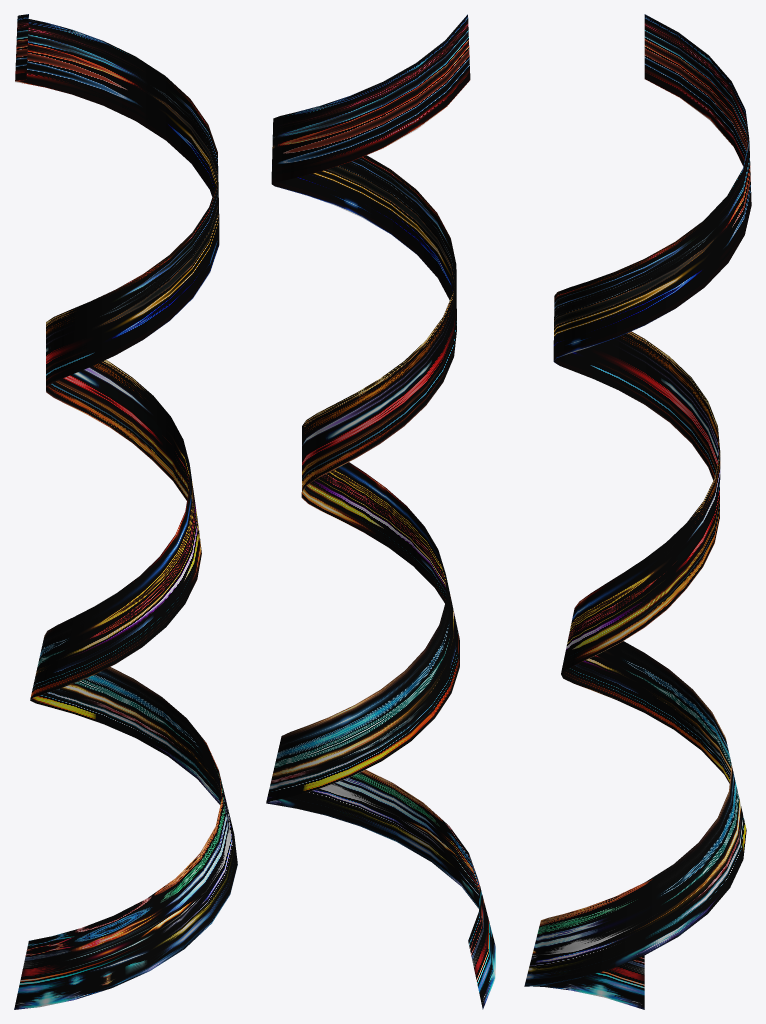
The model's file is xuanzhuan.FBX.
3 renders of one model, left to right at view 1: azimuth 30°, elevation 25°; view 2: azimuth 150°, elevation 25°; view 3: azimuth 270°, elevation 25°, orthographic.
Parts seen in each view (by area): view 1: pHelix4; view 2: pHelix4; view 3: pHelix4.
Boxes of the visible parts, left/top/right/bottom form: pHelix4: left=14, top=14, right=237, bottom=1009; pHelix4: left=266, top=14, right=495, bottom=1009; pHelix4: left=524, top=14, right=751, bottom=1009.
Bounding box in the file's own units: 4.76 × 21.88 × 4.49.
